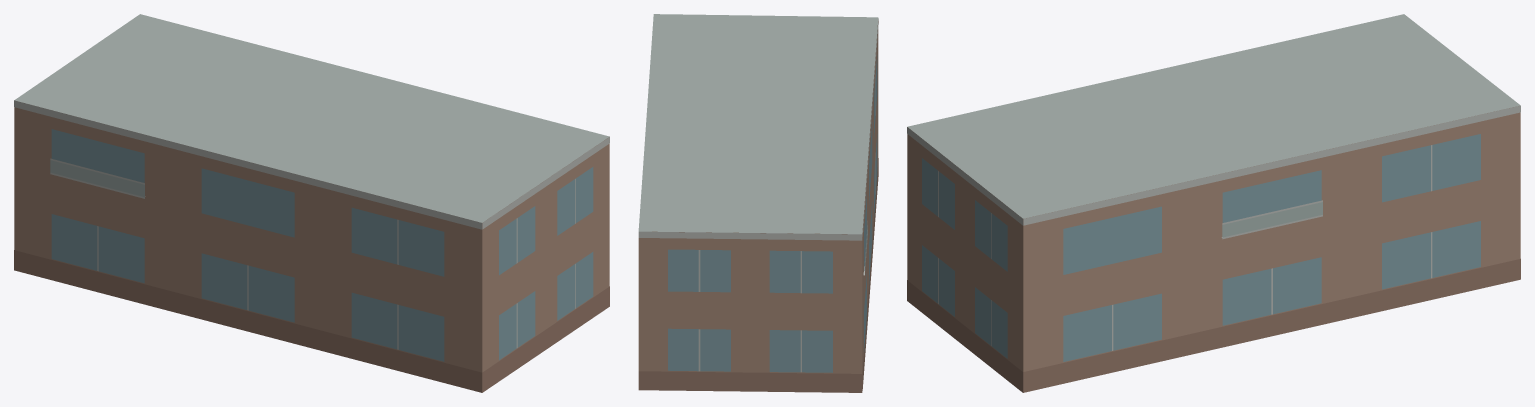
File: survey-upis-32688392.glb
The picture shows the model from 3 angles, left to right: view 1: azimuth 30°, elevation 25°; view 2: azimuth 150°, elevation 25°; view 3: azimuth 270°, elevation 25°; orthographic projection. The views are drawn at different scales.
Visible parts, largest first — view 1: survey-upis-32688392.tmp; view 2: survey-upis-32688392.tmp; view 3: survey-upis-32688392.tmp.
Boxes of the visible parts, x1,y1,x2,y2 form: survey-upis-32688392.tmp: (14,14,609,392); survey-upis-32688392.tmp: (638,14,878,392); survey-upis-32688392.tmp: (907,14,1520,392).
Size of the model in its own units: 15.4 by 6.1 by 19.5.
